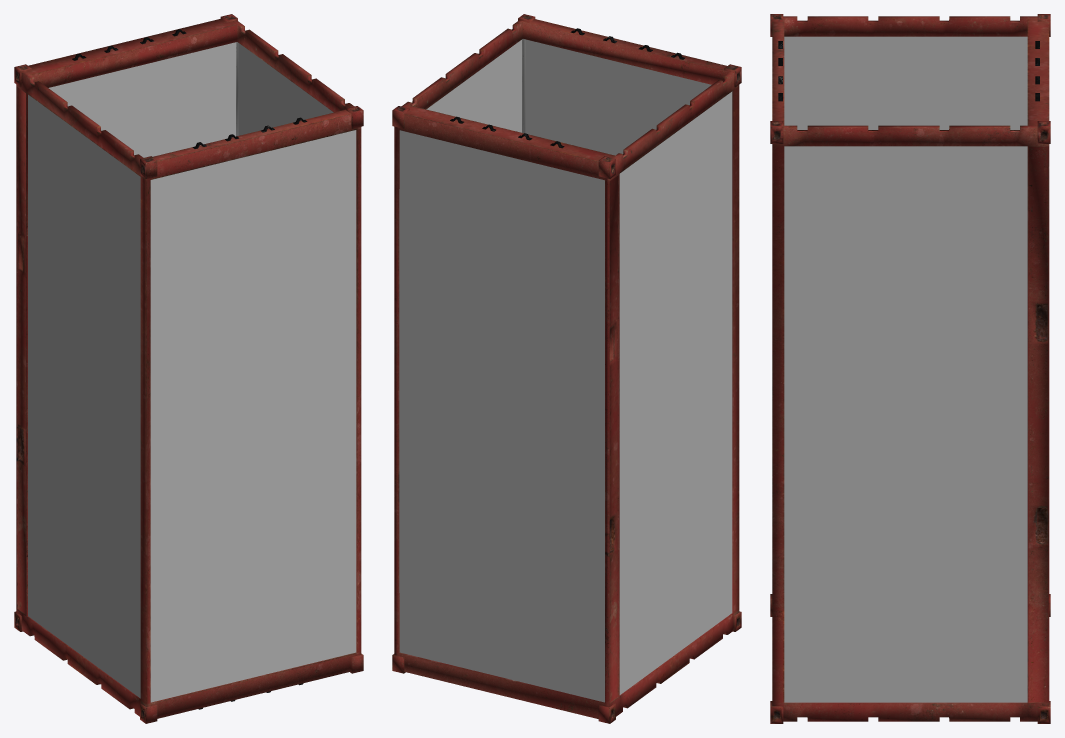
The model's file is Container.fbx.
The picture shows the model from 3 angles, left to right: view 1: azimuth 30°, elevation 25°; view 2: azimuth 150°, elevation 25°; view 3: azimuth 270°, elevation 25°; orthographic projection. The views are drawn at different scales.
Parts seen in each view (by area): view 1: Container; view 2: Container; view 3: Container.
Boxes of the visible parts, box(x1,y1,x2,y2) form: Container: box(14, 14, 363, 723); Container: box(392, 14, 741, 723); Container: box(770, 14, 1050, 723).
Bounding box in the file's own units: 4.06 × 10.08 × 4.25.
